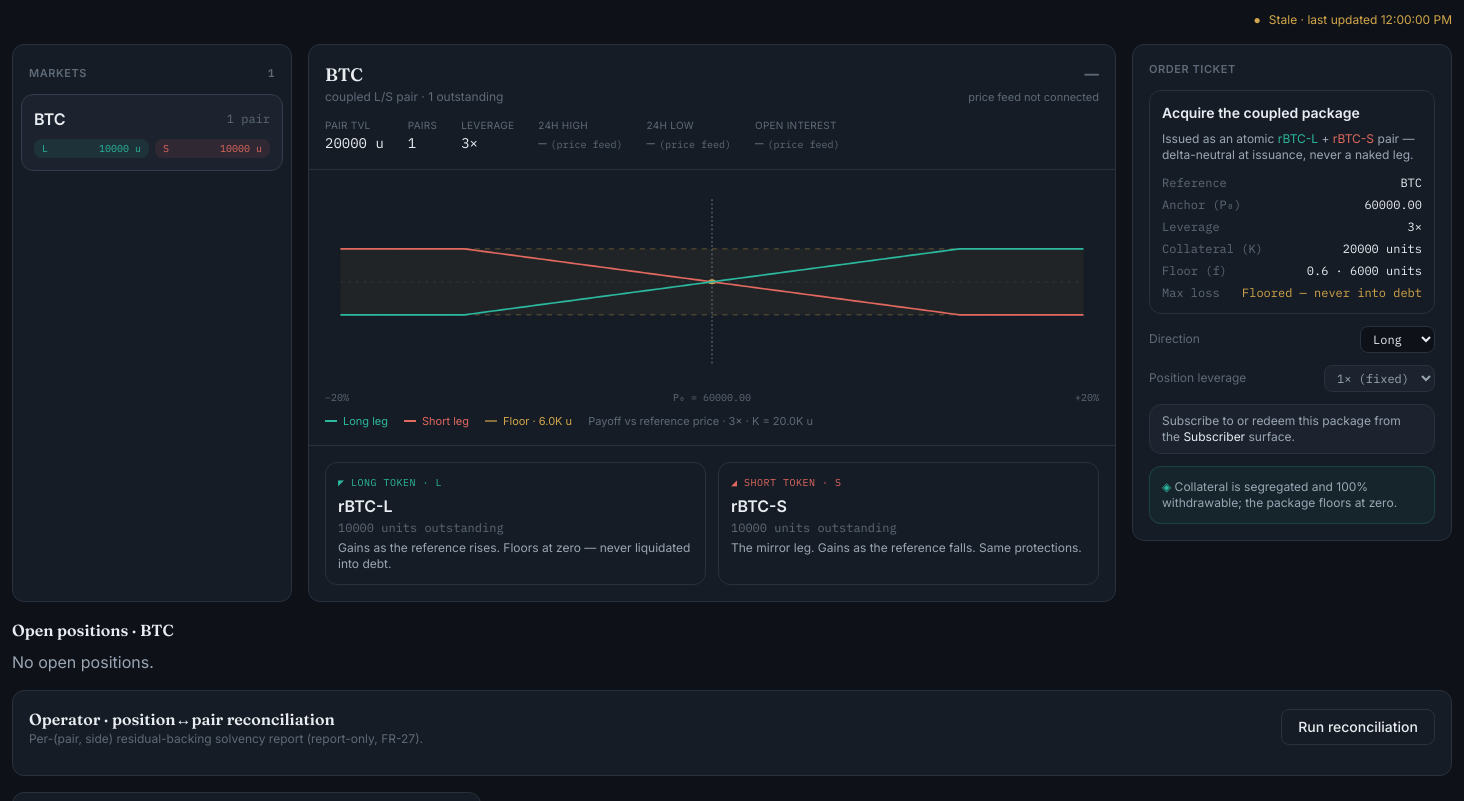
it: Operator reconciliation panel (Story 8.5, FR-27) › runs reconcile and renders the per-(pair, side) backing/exposure rows from the report
Click the button "Run reconciliation" at [1358, 727], box [1281, 709, 1435, 745]
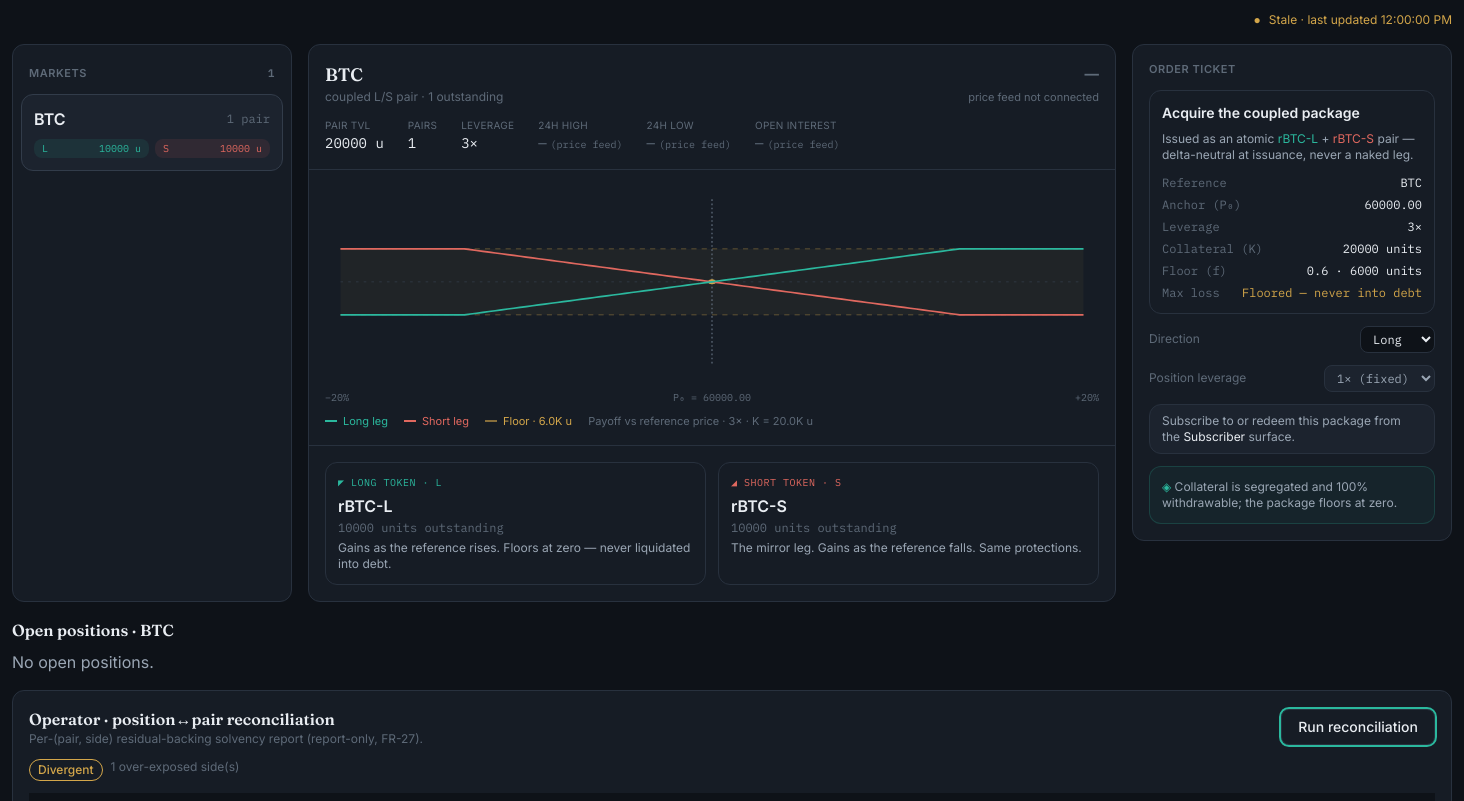
Now the text "1 over-exposed side(s)" is shown, box [111, 759, 239, 781]
